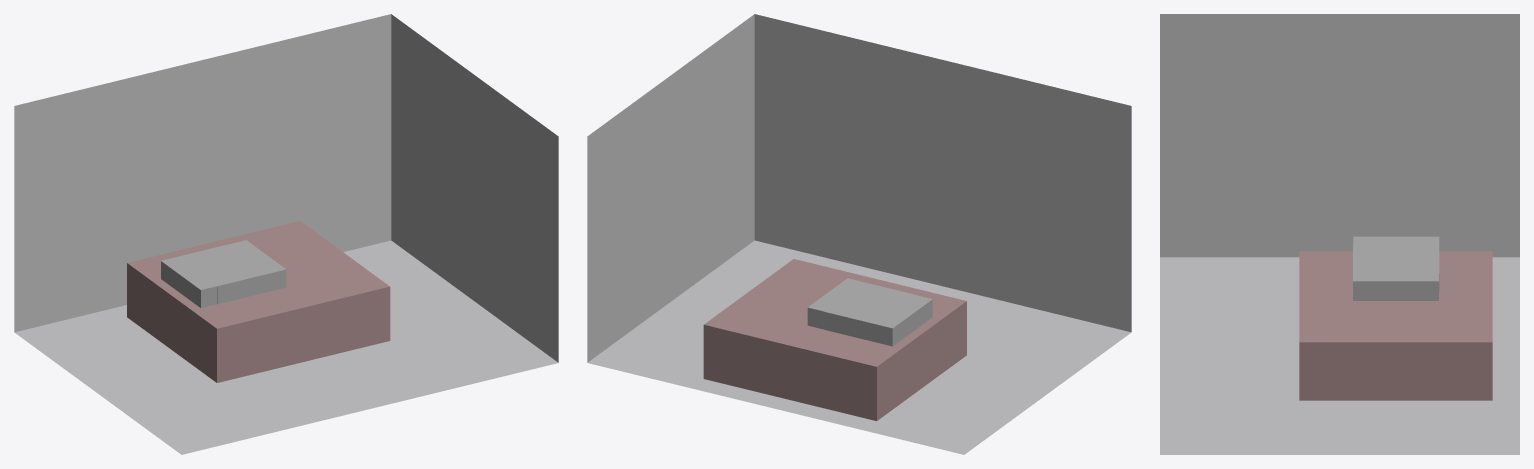
The model's file is optimised_layout.glb.
3 views of the same model, side by side, from view 1: azimuth 30°, elevation 25°; view 2: azimuth 150°, elevation 25°; view 3: azimuth 270°, elevation 25° (orthographic). The views are drawn at different scales.
Visible parts, largest first — view 1: room, bed, tables, beds; view 2: room, bed, beds, tables; view 3: room, bed, tables, beds.
Boxes of the visible parts, left/top/right/bottom form: room: left=14, top=14, right=558, bottom=454; bed: left=127, top=221, right=390, bottom=382; tables: left=177, top=240, right=286, bottom=304; beds: left=161, top=244, right=263, bottom=307; room: left=587, top=14, right=1131, bottom=454; bed: left=703, top=259, right=966, bottom=420; beds: left=823, top=287, right=932, bottom=346; tables: left=807, top=278, right=916, bottom=329; room: left=1160, top=14, right=1519, bottom=454; bed: left=1299, top=251, right=1492, bottom=400; tables: left=1353, top=245, right=1438, bottom=300; beds: left=1353, top=236, right=1439, bottom=291.
Size of the model in its own units: 4.36 by 2.5 by 3.35.
